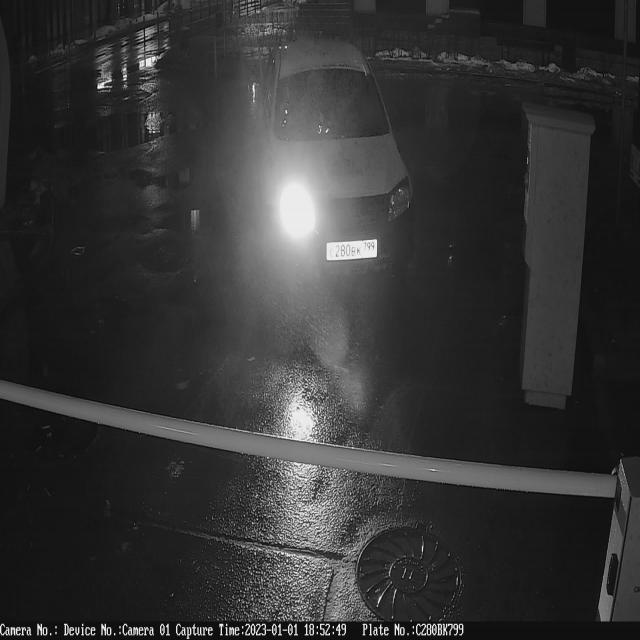car-plate-numbers: (325, 237, 381, 267)
